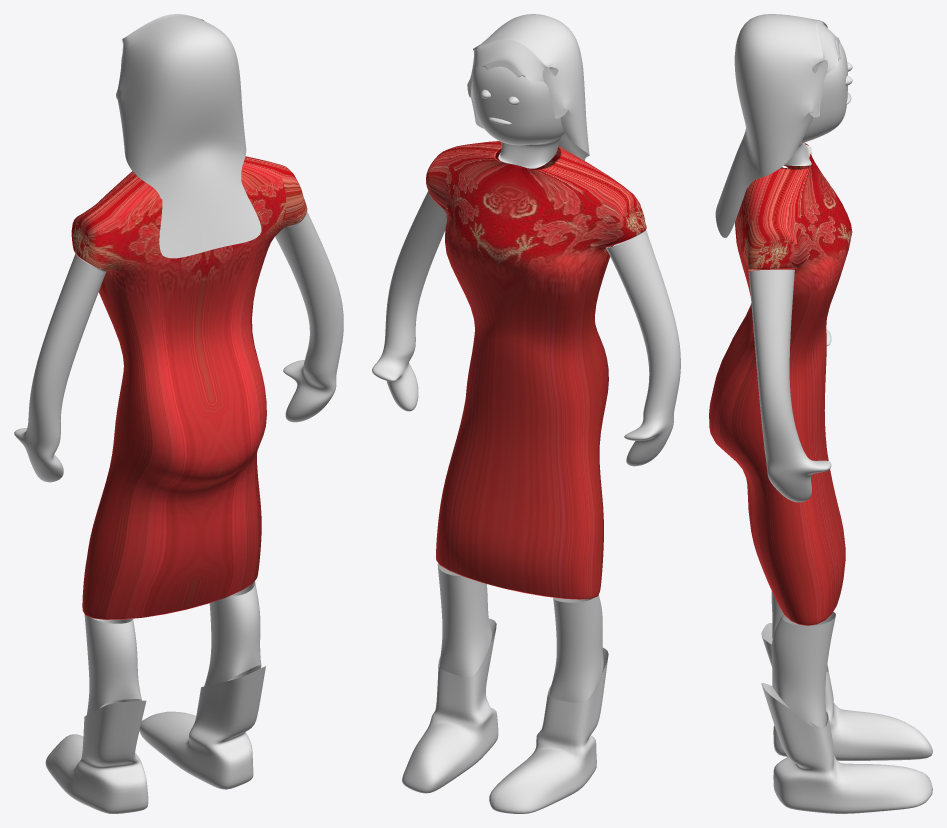
File: cheongsam_female.fbx
The picture shows the model from 3 angles, left to right: view 1: azimuth 30°, elevation 25°; view 2: azimuth 150°, elevation 25°; view 3: azimuth 270°, elevation 25°; orthographic projection. The views are drawn at different scales.
Visible parts, largest first — view 1: Cloth, Hair, Body, Shoes; view 2: Cloth, Body, Shoes, Hair; view 3: Cloth, Body, Shoes, Hair.
Boxes of the visible parts, left/top/right/bottom form: Cloth: left=71, top=156, right=307, bottom=619; Hair: left=116, top=14, right=261, bottom=258; Body: left=14, top=56, right=343, bottom=714; Shoes: left=45, top=666, right=265, bottom=813; Cloth: left=426, top=141, right=646, bottom=599; Body: left=372, top=64, right=680, bottom=702; Shoes: left=402, top=618, right=608, bottom=813; Hair: left=467, top=14, right=589, bottom=160; Cloth: left=709, top=143, right=852, bottom=625; Body: left=748, top=39, right=847, bottom=727; Shoes: left=761, top=623, right=932, bottom=813; Hair: left=715, top=14, right=840, bottom=237.
Bounding box in the file's own units: 304 × 735 × 197.
